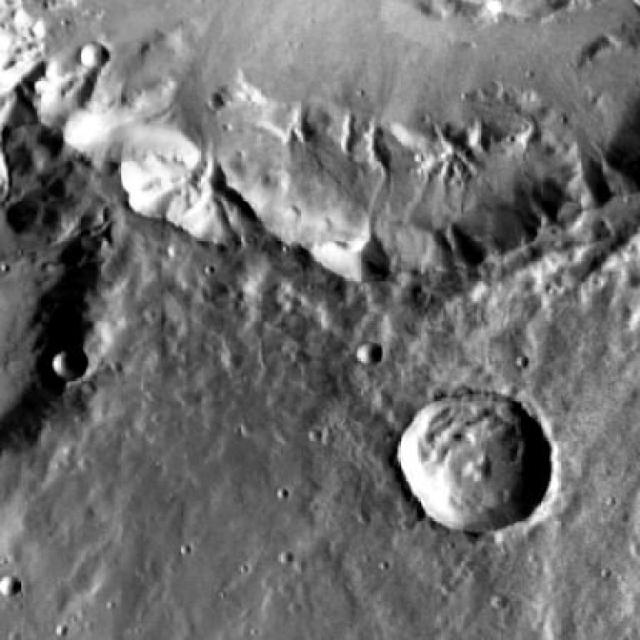crater: (0, 5, 640, 302), (402, 386, 556, 526), (52, 344, 90, 378), (354, 341, 384, 368), (82, 45, 110, 69)
